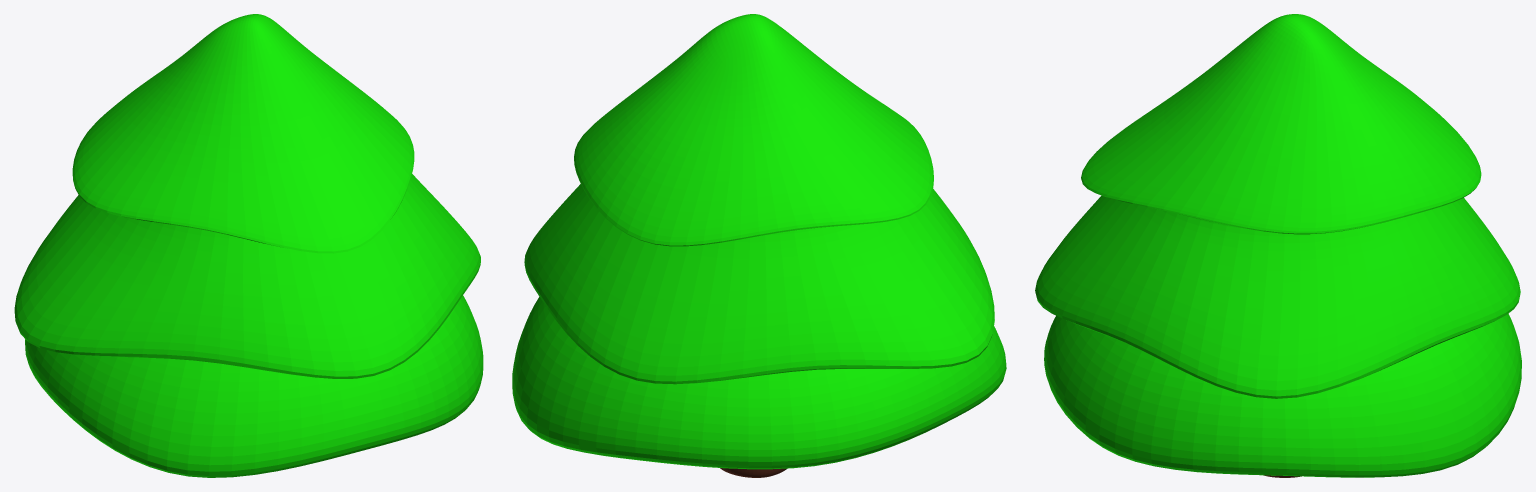
File: treeShort.fbx
3 renders of one model, left to right at view 1: azimuth 30°, elevation 25°; view 2: azimuth 150°, elevation 25°; view 3: azimuth 270°, elevation 25°, orthographic. The views are drawn at different scales.
Visible parts, largest first — view 1: Cube.001; view 2: Cube.001; view 3: Cube.001.
Part boxes in pixels (bbox=[...]): Cube.001: bbox=[14, 14, 483, 477]; Cube.001: bbox=[512, 14, 1006, 477]; Cube.001: bbox=[1035, 14, 1521, 477].
Bounding box in the file's own units: 833 × 805 × 792.
